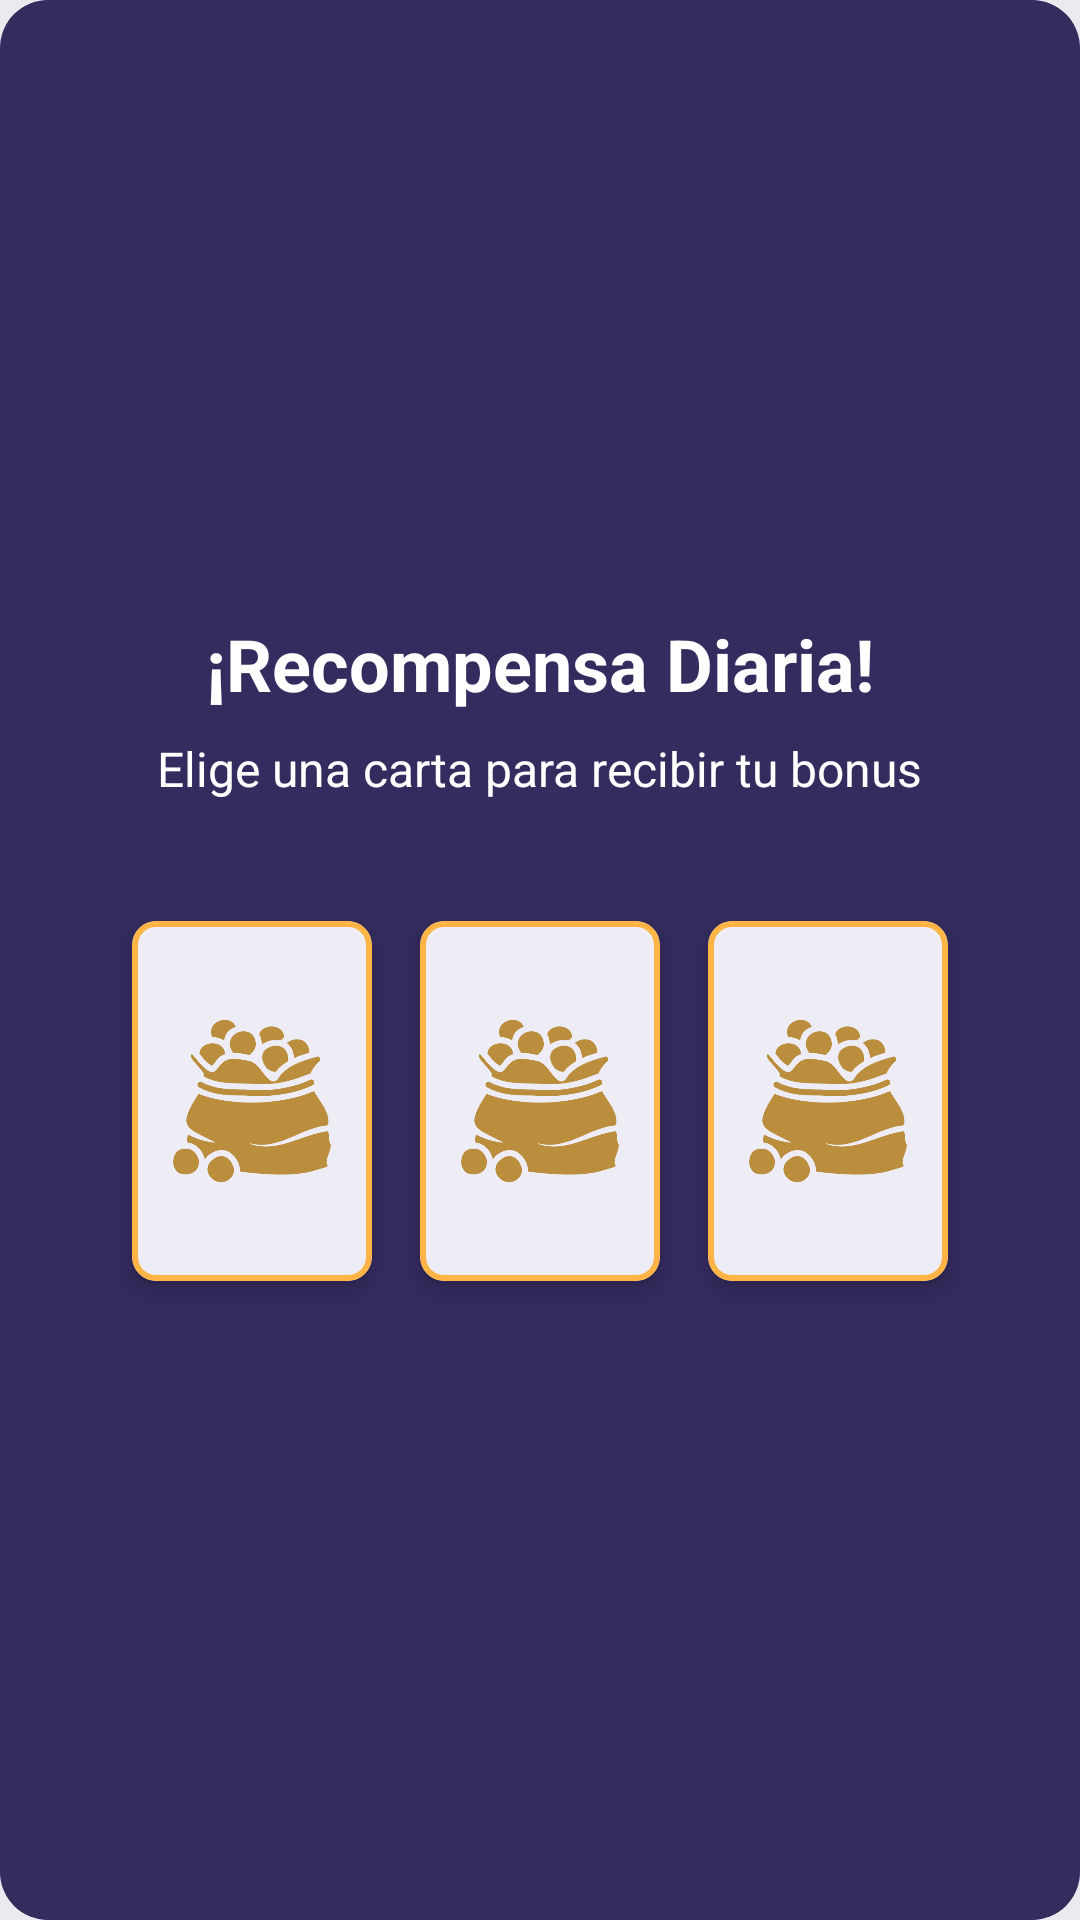

Point at icon controls on the screen. Image size 1080×1920, points as point (x, y).
premios: point (252, 1101), point (540, 1101), point (828, 1101)
